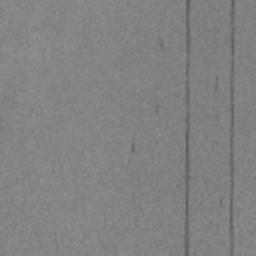Scratches: (177, 0, 192, 256), (227, 0, 237, 256), (158, 38, 165, 51), (214, 76, 219, 94), (155, 104, 160, 114), (131, 143, 136, 153)
